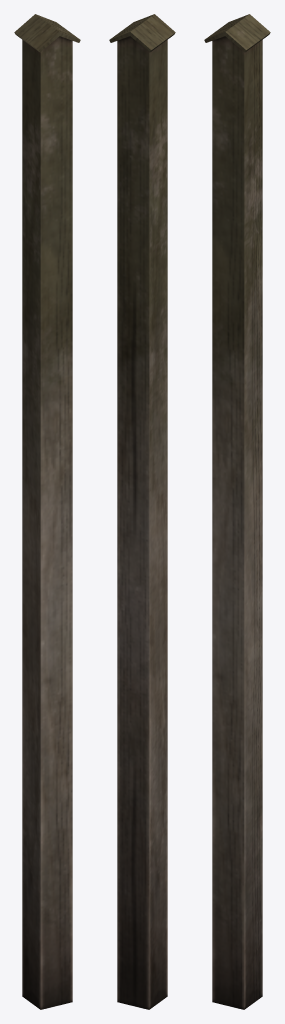
Rendered from JT_Gy_Fence_A_End_01.fbx.
The picture shows the model from 3 angles, left to right: view 1: azimuth 30°, elevation 25°; view 2: azimuth 150°, elevation 25°; view 3: azimuth 330°, elevation 25°; orthographic projection.
Parts seen in each view (by area): view 1: JT_Gy_Fence_A_End_01; view 2: JT_Gy_Fence_A_End_01; view 3: JT_Gy_Fence_A_End_01.
Part boxes in pixels (<box>): JT_Gy_Fence_A_End_01: <box>14,14,80,1009</box>; JT_Gy_Fence_A_End_01: <box>109,14,175,1009</box>; JT_Gy_Fence_A_End_01: <box>204,14,270,1009</box>.
Bounding box in the file's own units: 0.0996 × 2.2 × 0.0996.
